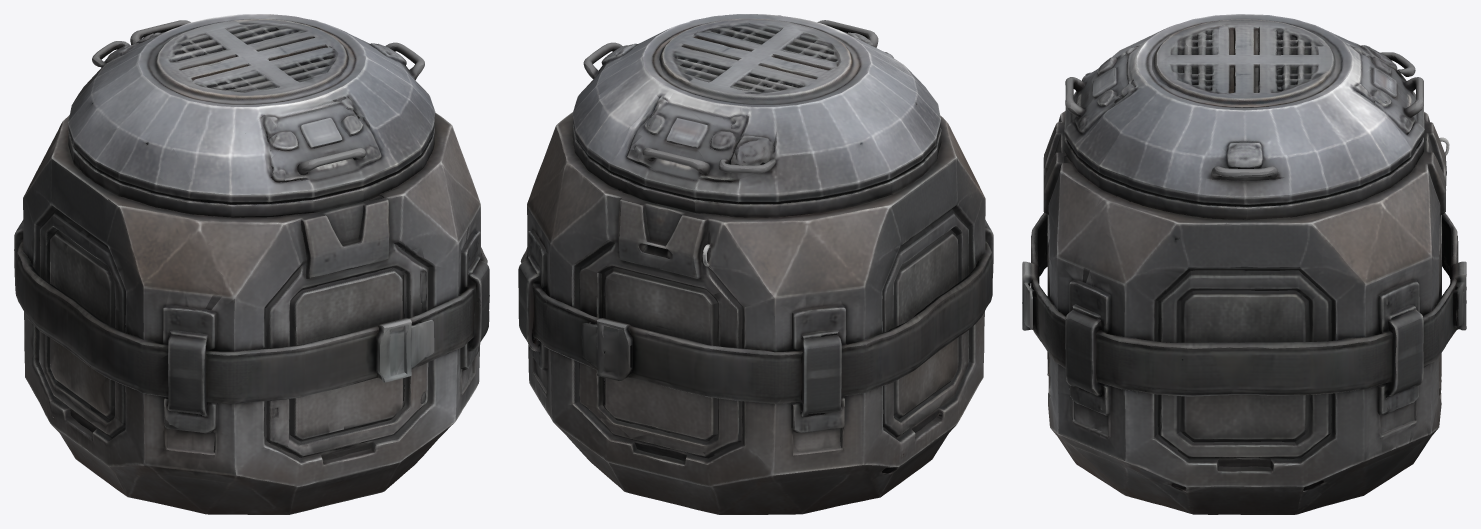
The model's file is chest.glb.
3 renders of one model, left to right at view 1: azimuth 30°, elevation 25°; view 2: azimuth 150°, elevation 25°; view 3: azimuth 270°, elevation 25°, orthographic.
Visible parts, largest first — view 1: world; view 2: world; view 3: world.
Part boxes in pixels (<box>): world: <box>14,14,489,514</box>; world: <box>518,14,993,514</box>; world: <box>1022,14,1466,514</box>.
Bounding box in the file's own units: 0.3985 × 0.4 × 0.4077.
Materials: 1 (1 with a texture image).
